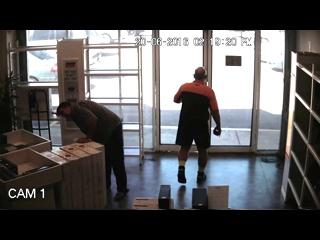Normal: (56, 100, 130, 201), (173, 66, 221, 185)
